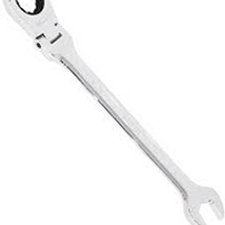wrench: (6, 2, 224, 225)
